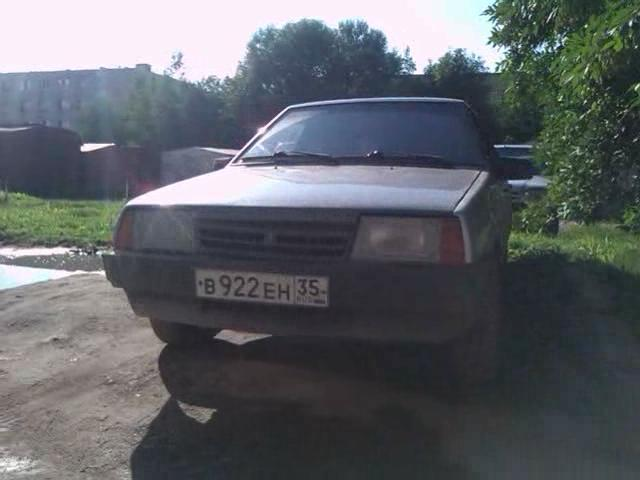car license plate: (191, 264, 333, 315)
